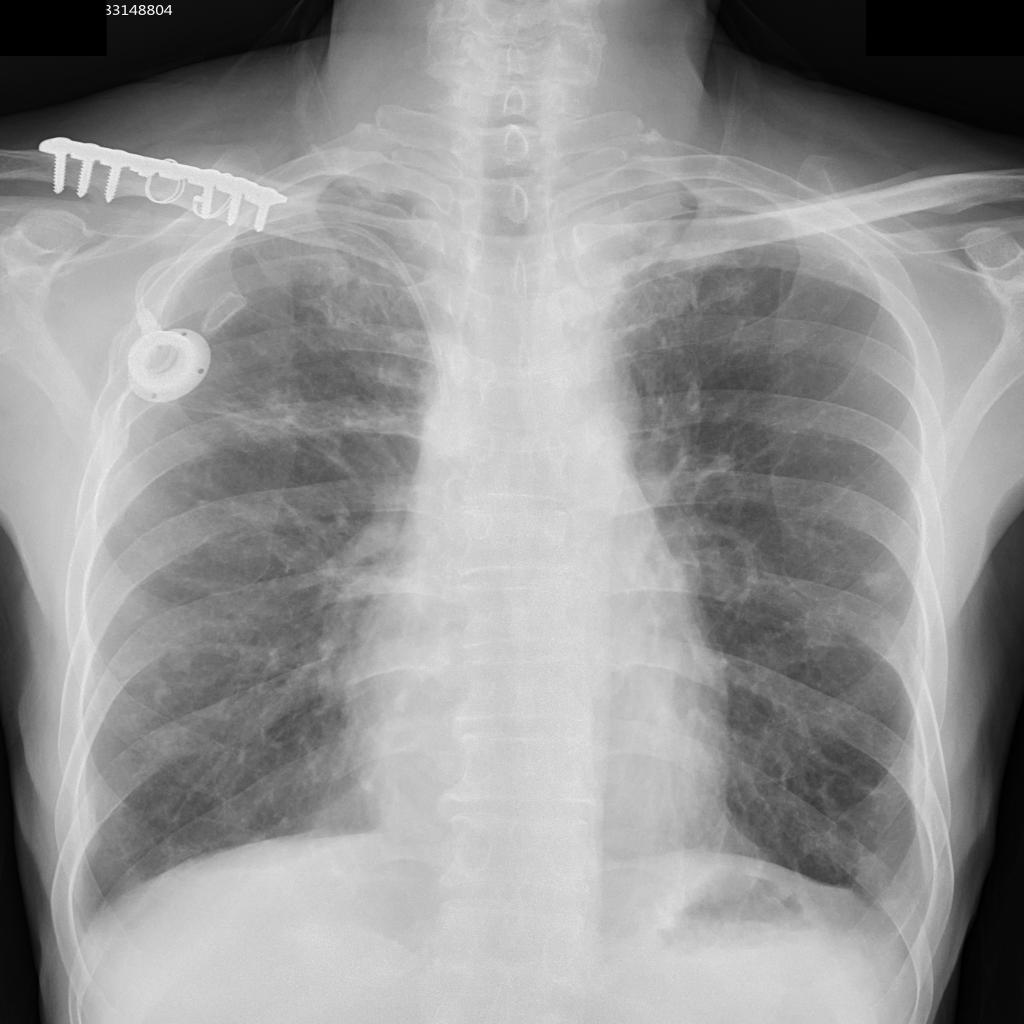Nodule: (865, 567, 897, 604)
